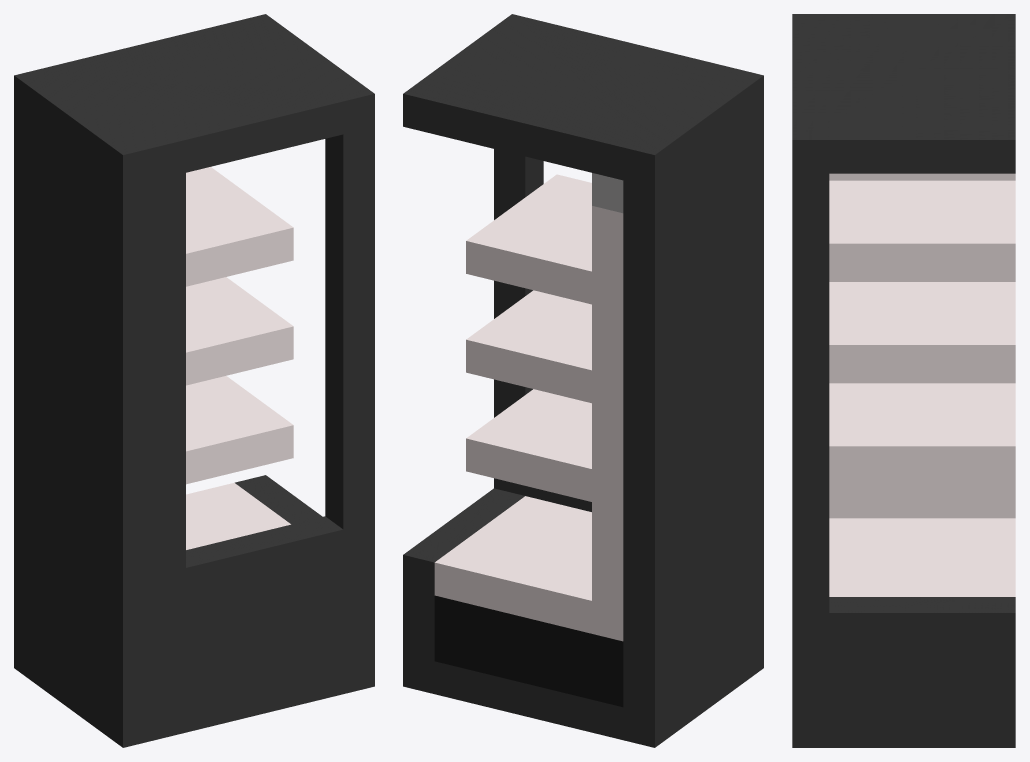
The model's file is large-cooler-left.glb.
The picture shows the model from 3 angles, left to right: view 1: azimuth 30°, elevation 25°; view 2: azimuth 150°, elevation 25°; view 3: azimuth 270°, elevation 25°; orthographic projection. The views are drawn at different scales.
Visible parts, largest first — view 1: Untitled; view 2: Untitled; view 3: Untitled.
Part boxes in pixels (left/top/right/bottom): Untitled: left=14, top=14, right=374, bottom=747; Untitled: left=403, top=14, right=763, bottom=747; Untitled: left=792, top=14, right=1015, bottom=747.
Size of the model in its own units: 0.8 by 1.8 by 0.6.
Materials: 1 (1 with a texture image).
